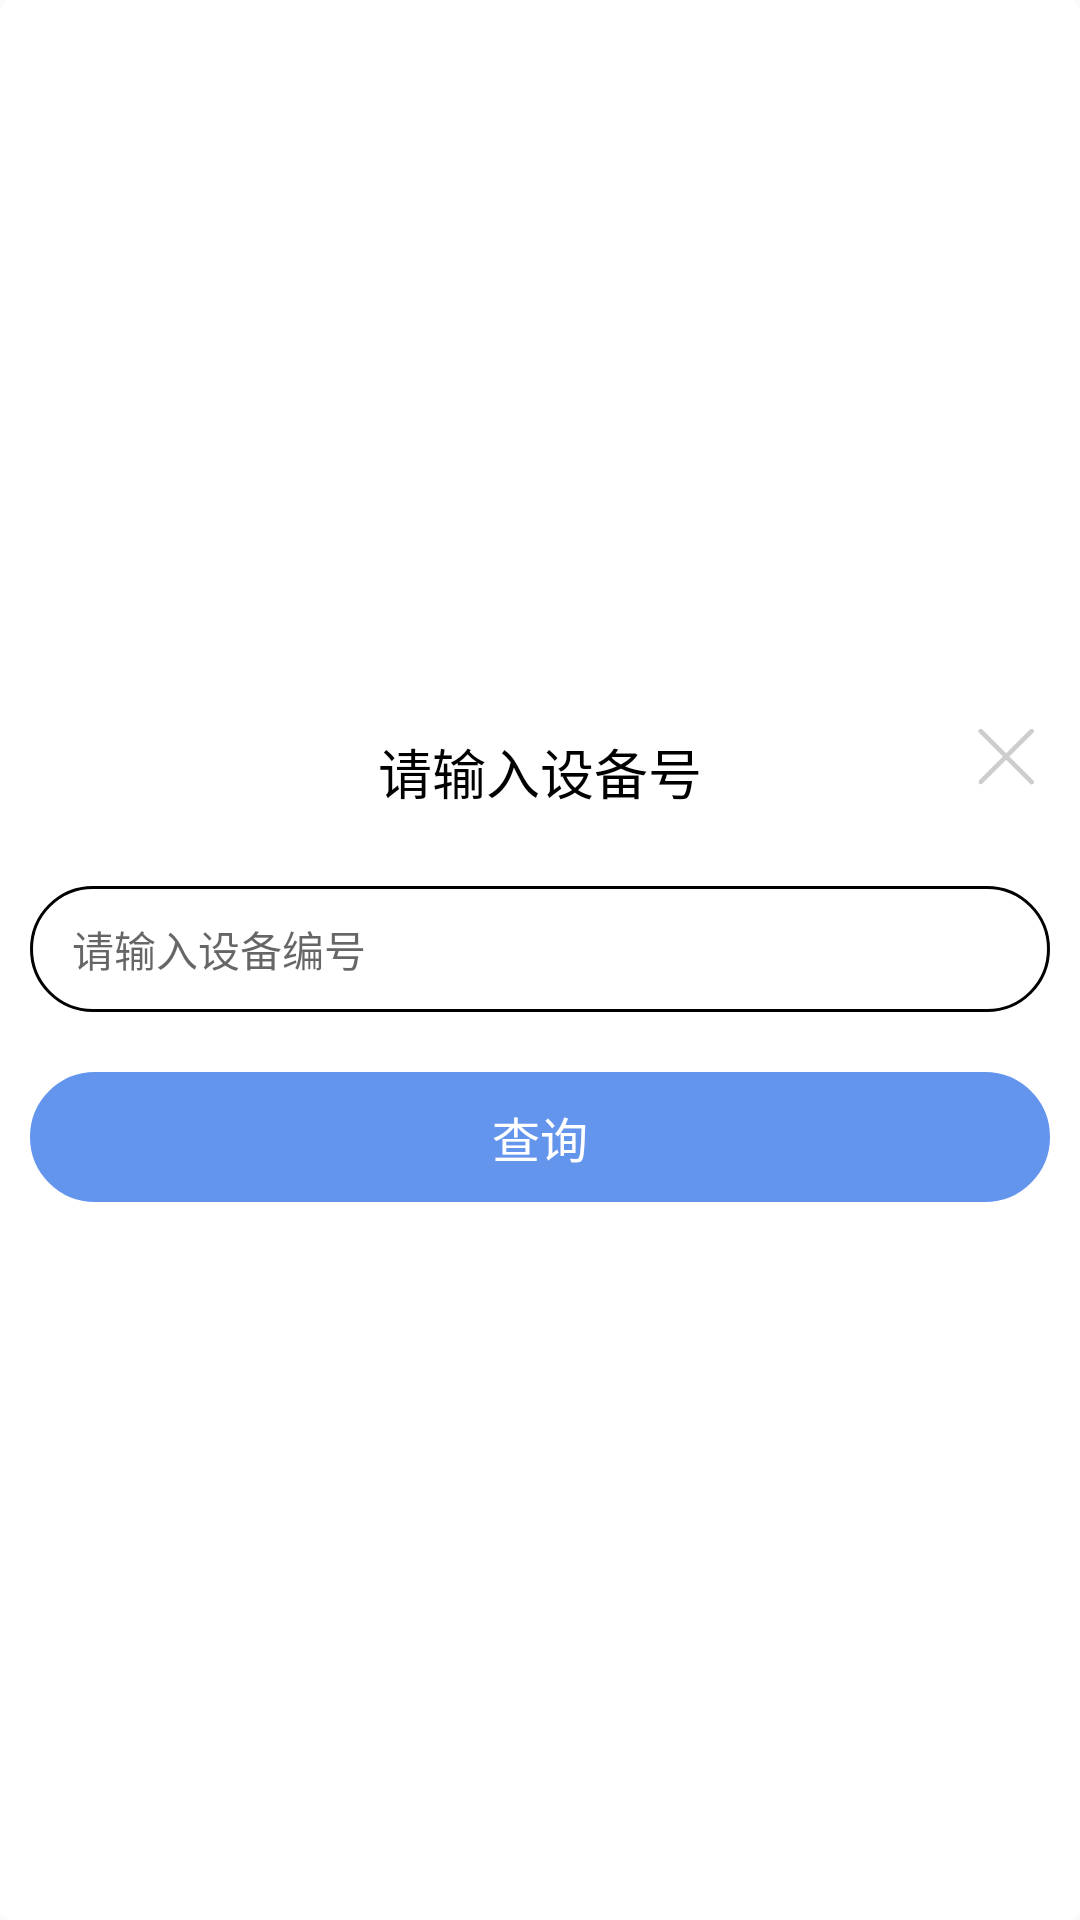

Point at icon controls on the screen. Image size 1080 × 1920, points as [x,y].
close: [1006,756]
